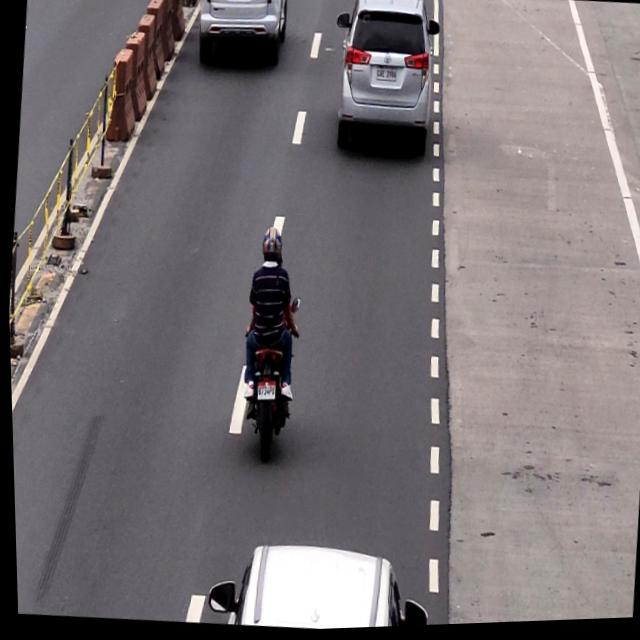Car: (217, 535, 412, 634), (331, 0, 441, 168), (191, 0, 289, 67)
Motorcycle: (227, 221, 303, 477), (250, 378, 275, 404), (374, 67, 398, 86), (227, 0, 250, 2)
